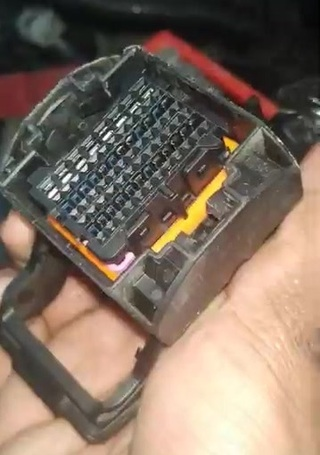connector: (1, 43, 304, 348)
